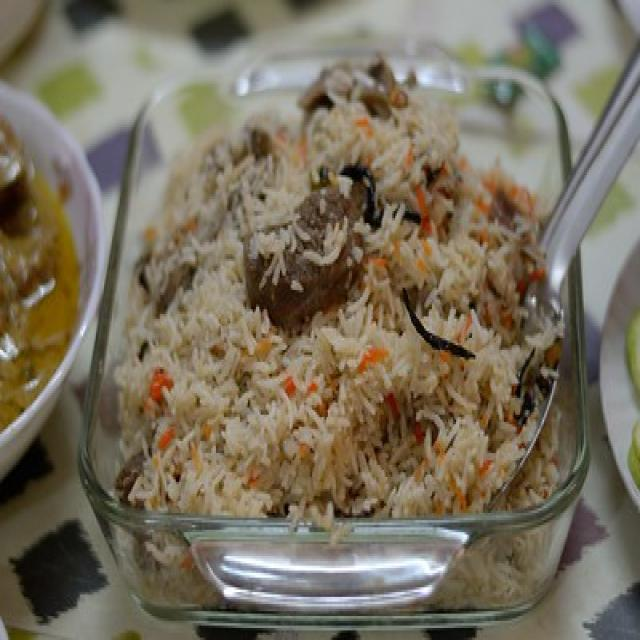Biryani: (147, 100, 549, 488)
